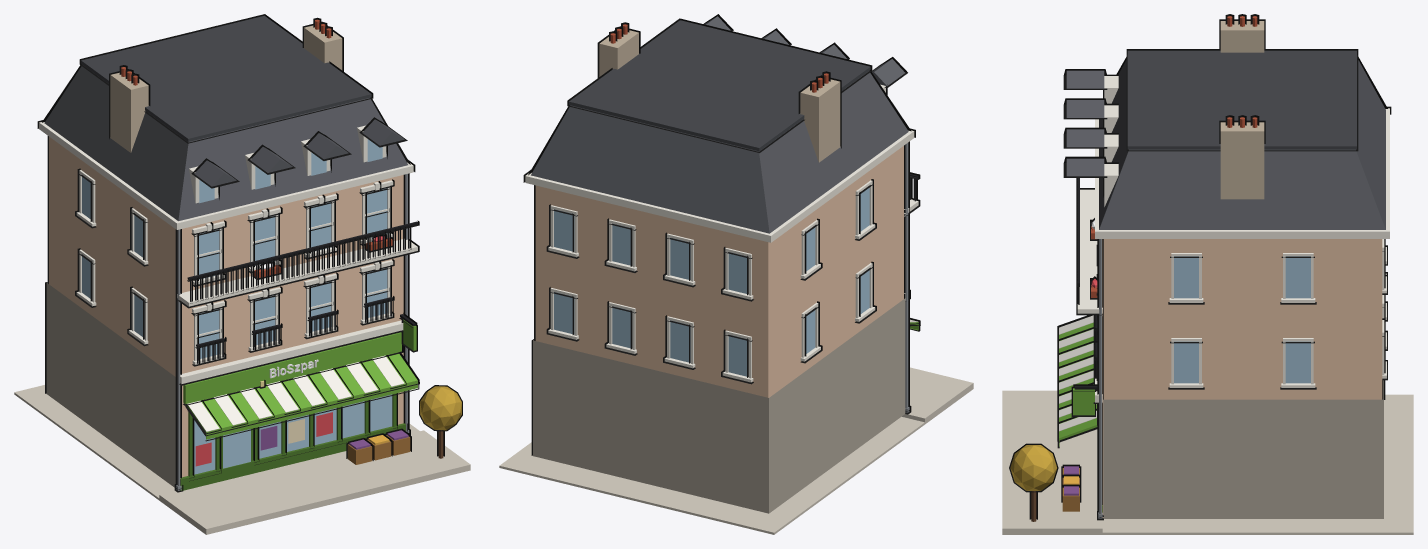
File: Dukkan_bioszpar.fbx
3 views of the same model, side by side, from view 1: azimuth 30°, elevation 25°; view 2: azimuth 150°, elevation 25°; view 3: azimuth 270°, elevation 25° (orthographic). The views are drawn at different scales.
Parts seen in each view (by area): view 1: Dukkan_bioszpar; view 2: Dukkan_bioszpar; view 3: Dukkan_bioszpar.
Part boxes in pixels (x1,y1,x2,y2): Dukkan_bioszpar: [14, 14, 470, 534]; Dukkan_bioszpar: [499, 14, 973, 534]; Dukkan_bioszpar: [1002, 14, 1413, 534].
Bounding box in the file's own units: 10.63 × 14.06 × 13.12.
